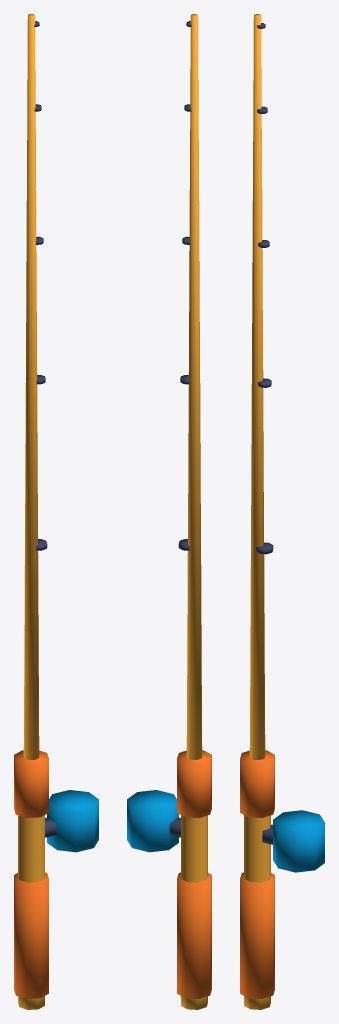
The model's file is varadepesca.fbx.
3 renders of one model, left to right at view 1: azimuth 30°, elevation 25°; view 2: azimuth 150°, elevation 25°; view 3: azimuth 330°, elevation 25°, orthographic.
Parts seen in each view (by area): view 1: Vara de pescar; view 2: Vara de pescar; view 3: Vara de pescar.
Boxes of the visible parts, x1=… form: Vara de pescar: x1=14, y1=14, x2=98, y2=1009; Vara de pescar: x1=127, y1=14, x2=211, y2=1009; Vara de pescar: x1=240, y1=14, x2=324, y2=1009.
Size of the model in its own units: 17.32 by 209 by 9.28.
